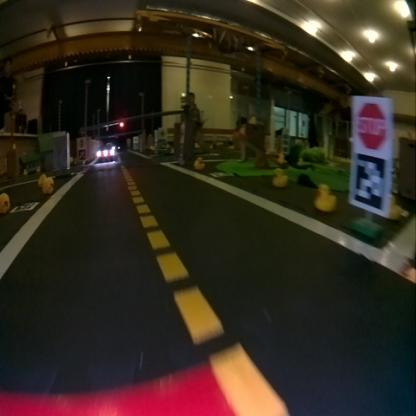Duckie: (314, 184, 334, 209), (272, 166, 288, 184), (193, 155, 205, 170)
QR code: (352, 153, 390, 216)
Stop sign: (355, 97, 391, 147)
